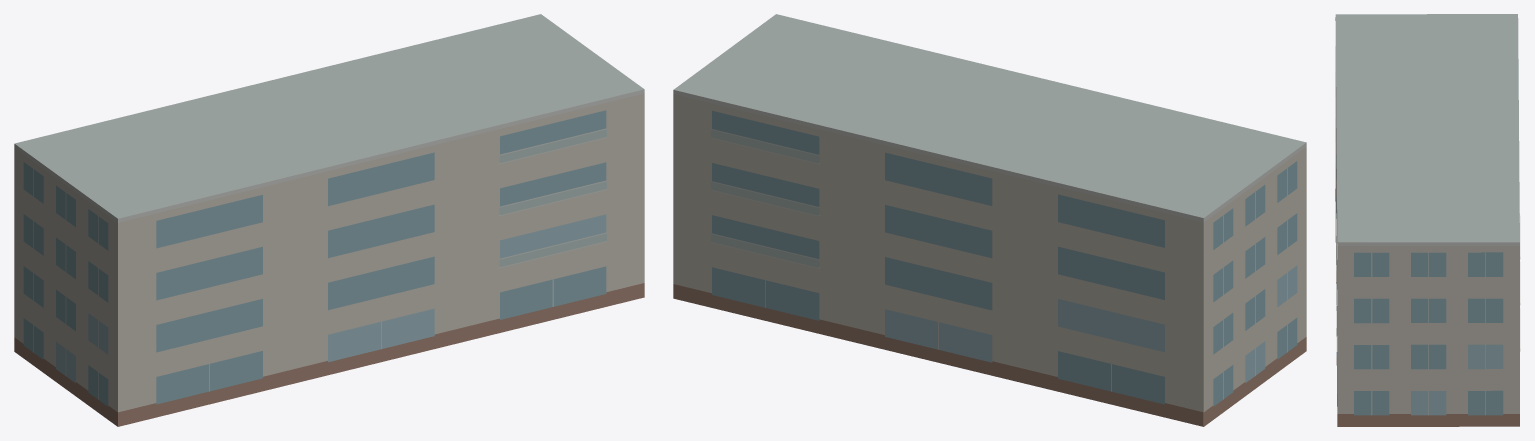
Rendered from residential-4032c50d-4bee-4053-ae61-eb22a11617ee.glb.
3 views of the same model, side by side, from view 1: azimuth 30°, elevation 25°; view 2: azimuth 150°, elevation 25°; view 3: azimuth 270°, elevation 25° (orthographic). The views are drawn at different scales.
Parts seen in each view (by area): view 1: residential-4032c50d-4bee-4053-ae61-eb22a11617ee.tmp; view 2: residential-4032c50d-4bee-4053-ae61-eb22a11617ee.tmp; view 3: residential-4032c50d-4bee-4053-ae61-eb22a11617ee.tmp.
Part boxes in pixels (box(x1,y1,x2,y2)): residential-4032c50d-4bee-4053-ae61-eb22a11617ee.tmp: box(14, 14, 644, 426); residential-4032c50d-4bee-4053-ae61-eb22a11617ee.tmp: box(673, 14, 1306, 426); residential-4032c50d-4bee-4053-ae61-eb22a11617ee.tmp: box(1335, 14, 1520, 426).
Size of the model in its own units: 32.41 by 12.2 by 11.09.
